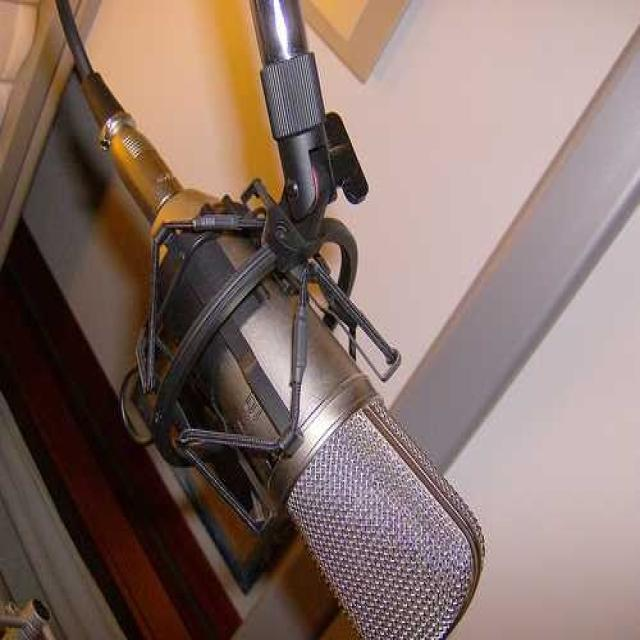microphone: (197, 224, 514, 640)
